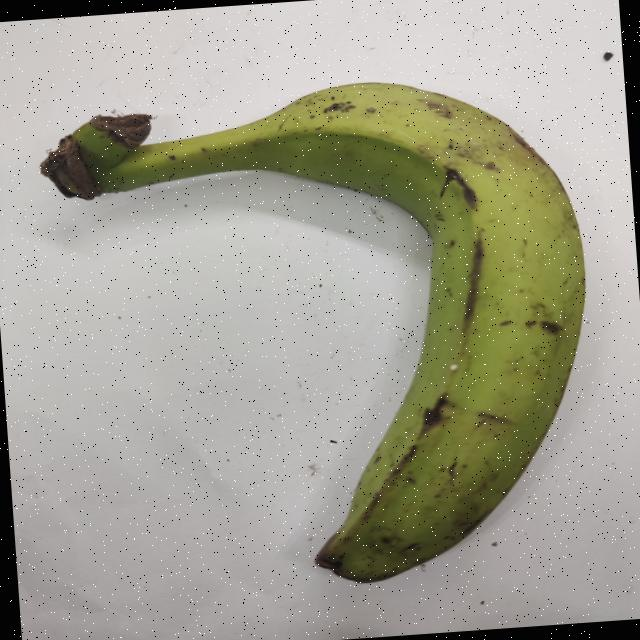Raw: (8, 45, 640, 609)
